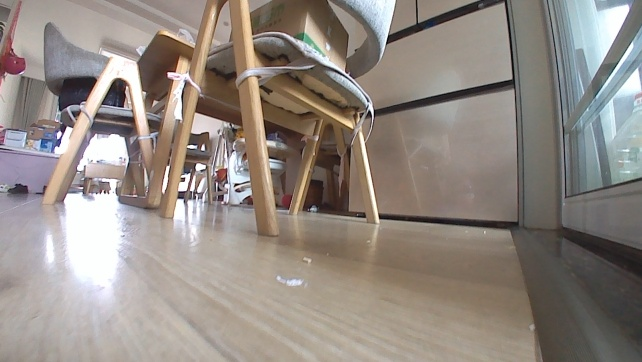dining_table: (35, 0, 382, 239)
refrigerator: (337, 0, 524, 230)
